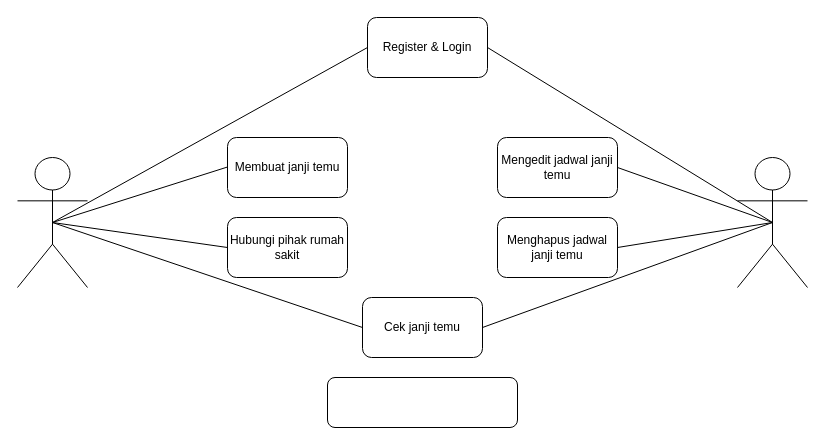
This 825x445 diagram has some shape labels left out. Here are the shapes that lost their labels. From the top down, the box of each, then its label:
(16, 156, 88, 288): PASIEN
(736, 156, 808, 288): ADMIN
(326, 376, 518, 428): Diagram Usecase sistem janji temu dokter
